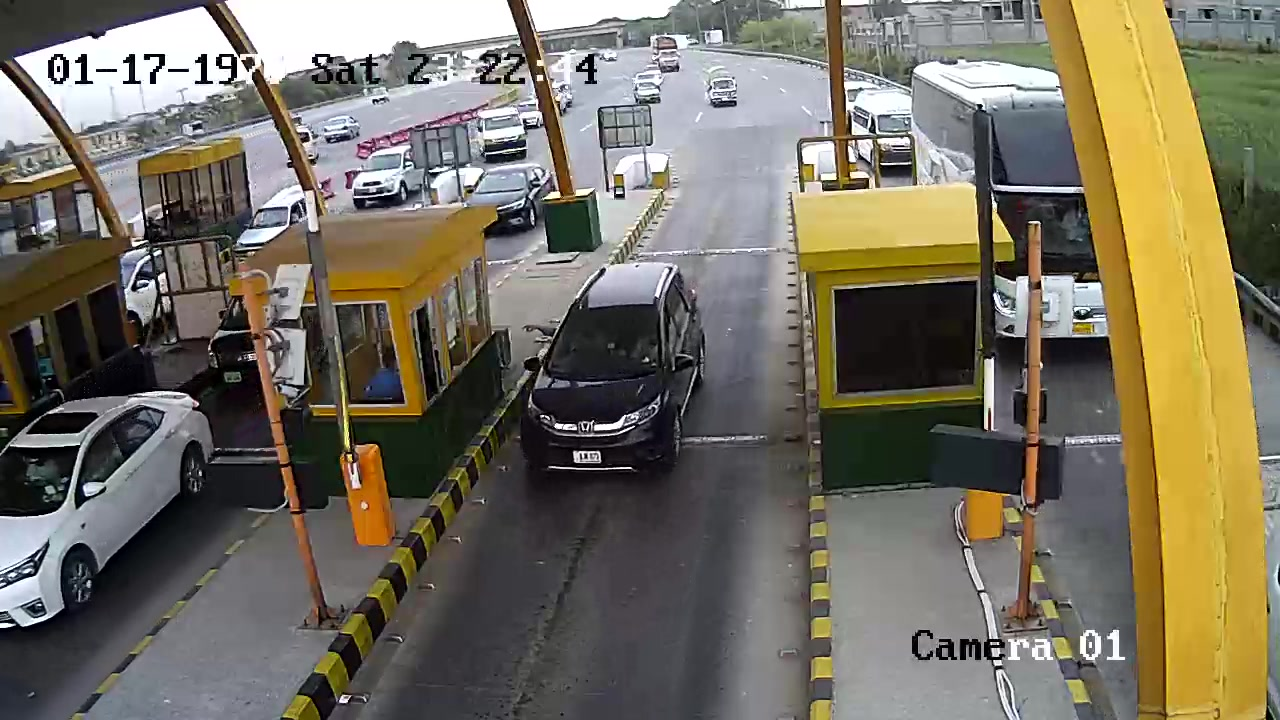F1: (517, 257, 712, 489)
